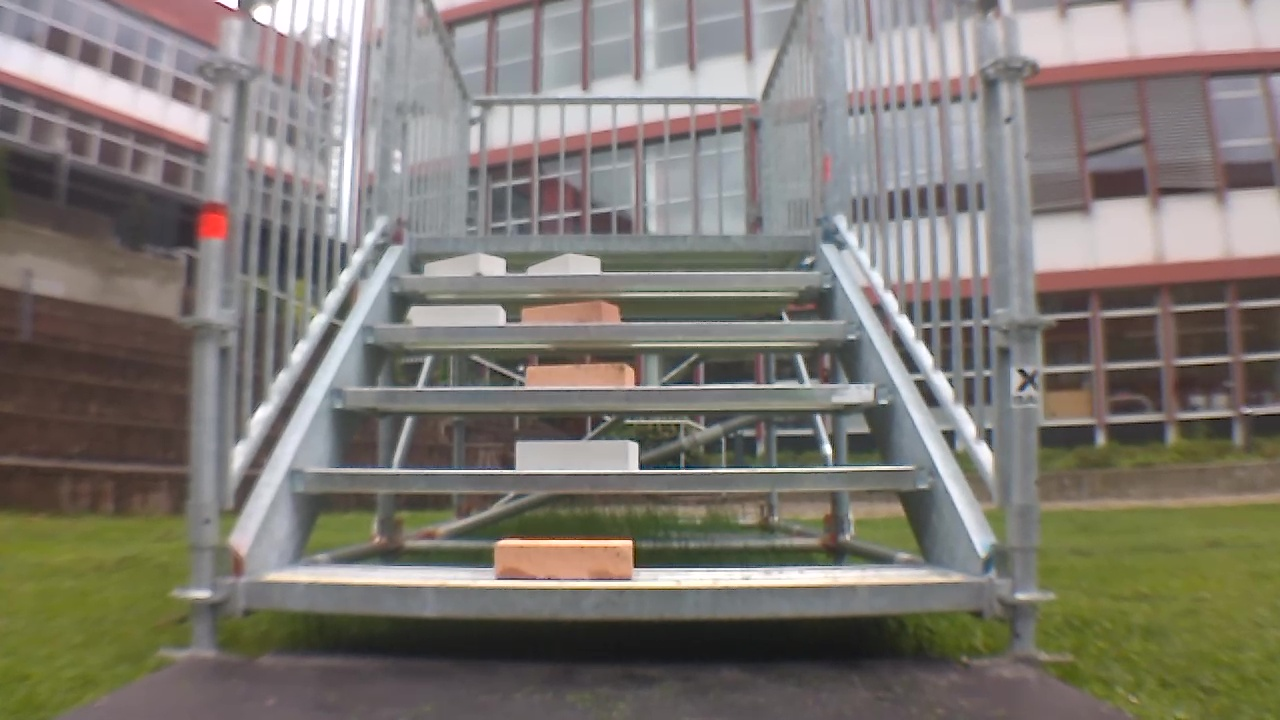brick: (496, 539, 633, 579), (516, 441, 637, 470), (527, 365, 633, 388), (523, 302, 617, 323), (415, 305, 505, 324), (425, 252, 505, 273), (529, 254, 601, 274)
edge: (244, 581, 985, 617), (334, 384, 895, 410), (290, 470, 931, 491), (362, 320, 860, 341), (389, 270, 835, 291), (407, 231, 817, 251)
stairs: (166, 1, 1057, 658)
steps: (233, 226, 990, 625)
